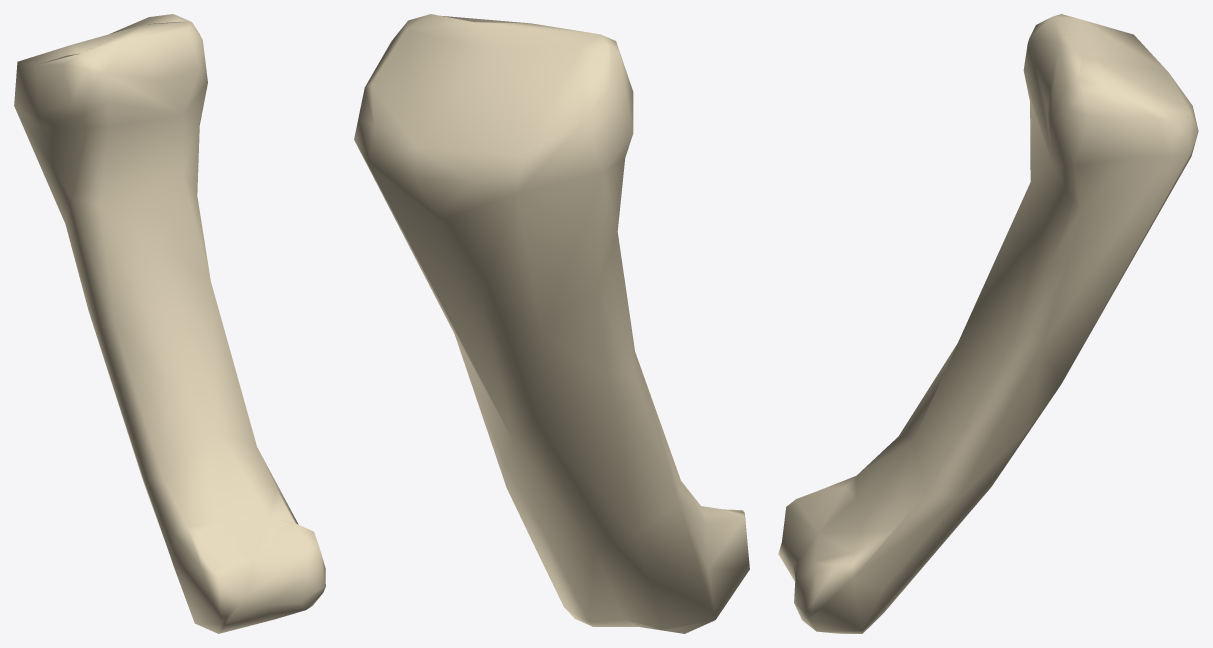
The model's file is esqueleto-proximal-phalanx-of-fourth-finger-of-hand-l.glb.
The picture shows the model from 3 angles, left to right: view 1: azimuth 30°, elevation 25°; view 2: azimuth 150°, elevation 25°; view 3: azimuth 270°, elevation 25°; orthographic projection. The views are drawn at different scales.
Parts seen in each view (by area): view 1: Proximal phalanx of fourth finger of hand.l; view 2: Proximal phalanx of fourth finger of hand.l; view 3: Proximal phalanx of fourth finger of hand.l.
Boxes of the visible parts, bbox=[...] form: Proximal phalanx of fourth finger of hand.l: bbox=[14, 14, 325, 633]; Proximal phalanx of fourth finger of hand.l: bbox=[354, 14, 749, 633]; Proximal phalanx of fourth finger of hand.l: bbox=[778, 14, 1198, 633].
Bounding box in the file's own units: 0.0139 × 0.0403 × 0.0272.
